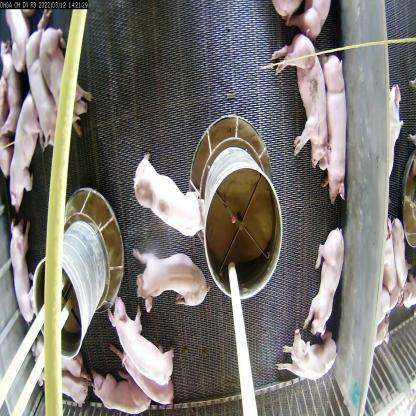Pig: (274, 24, 334, 178), (296, 209, 346, 344), (134, 152, 208, 242), (121, 302, 178, 403), (18, 28, 62, 157), (140, 248, 208, 322), (42, 32, 94, 127), (2, 90, 44, 195), (88, 360, 159, 416), (6, 227, 43, 331), (324, 55, 350, 198), (274, 336, 338, 388)
